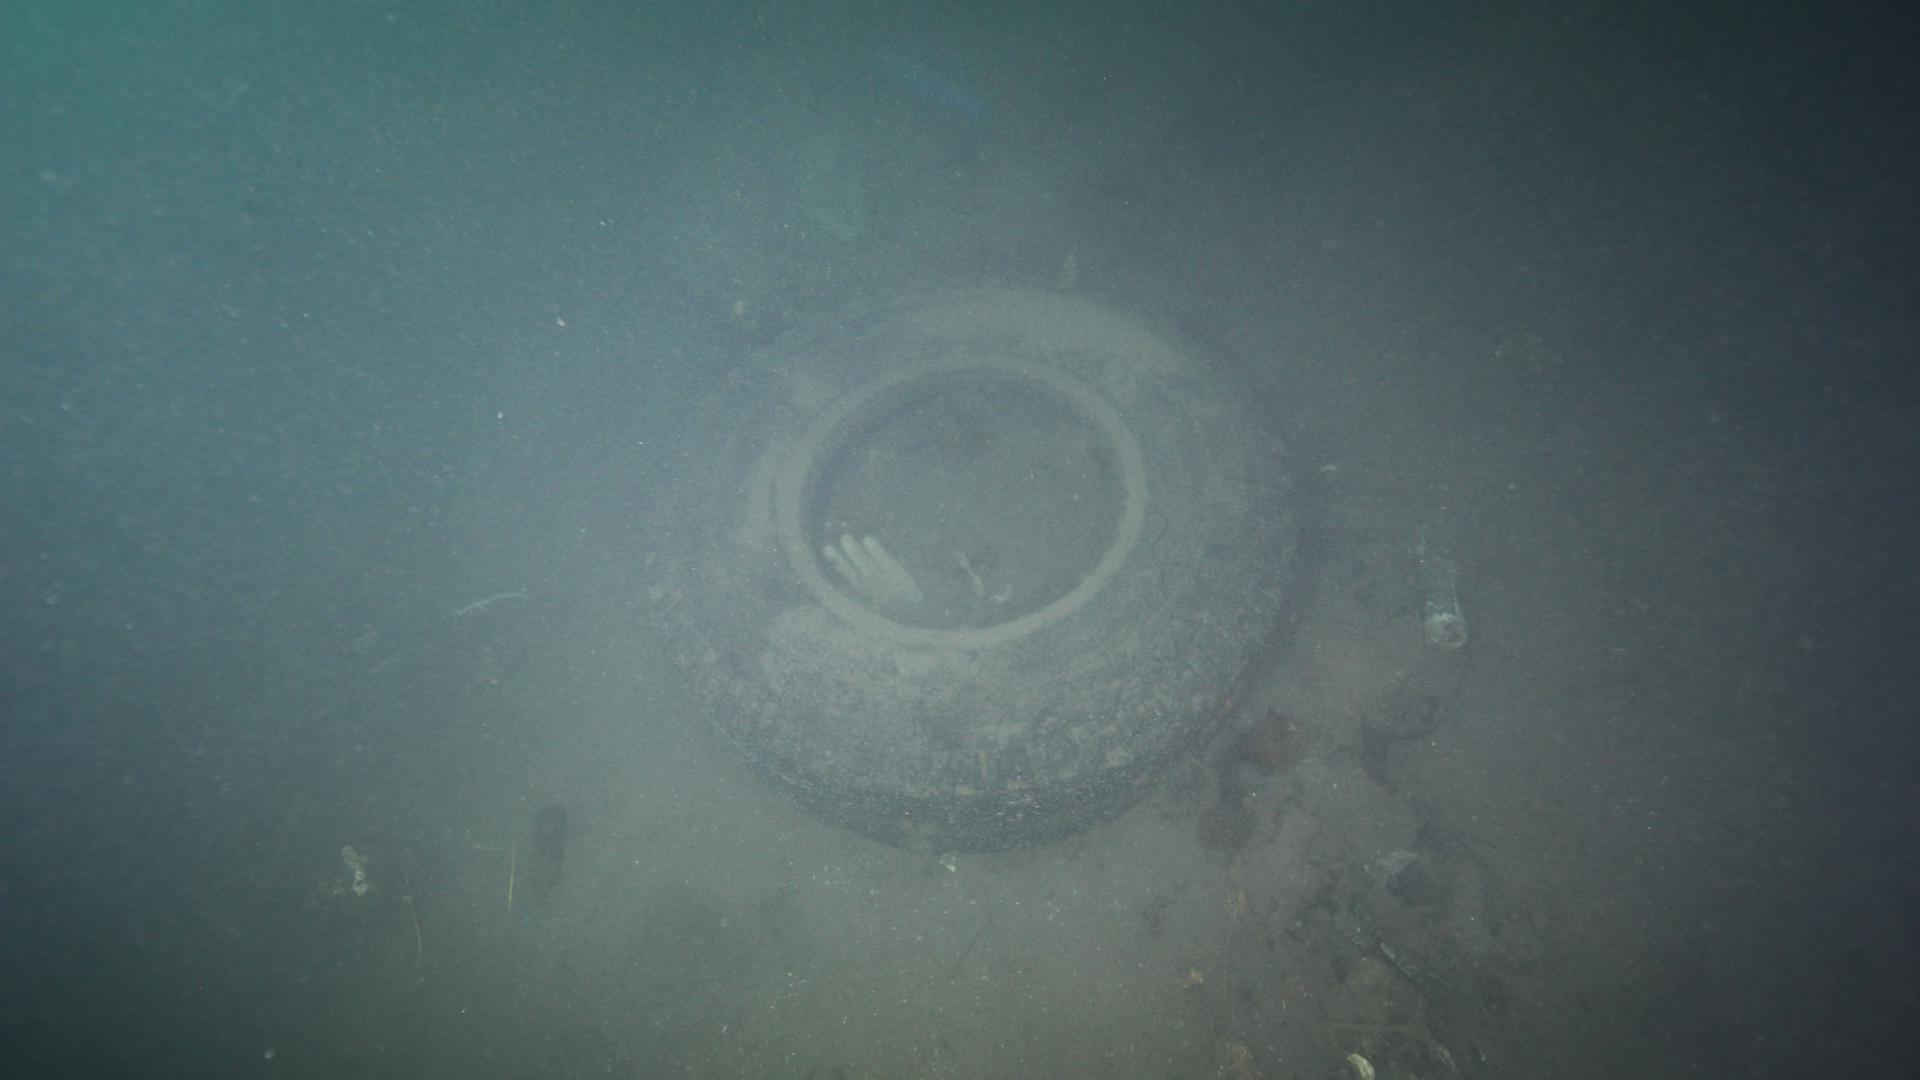tire: (636, 274, 1309, 858)
